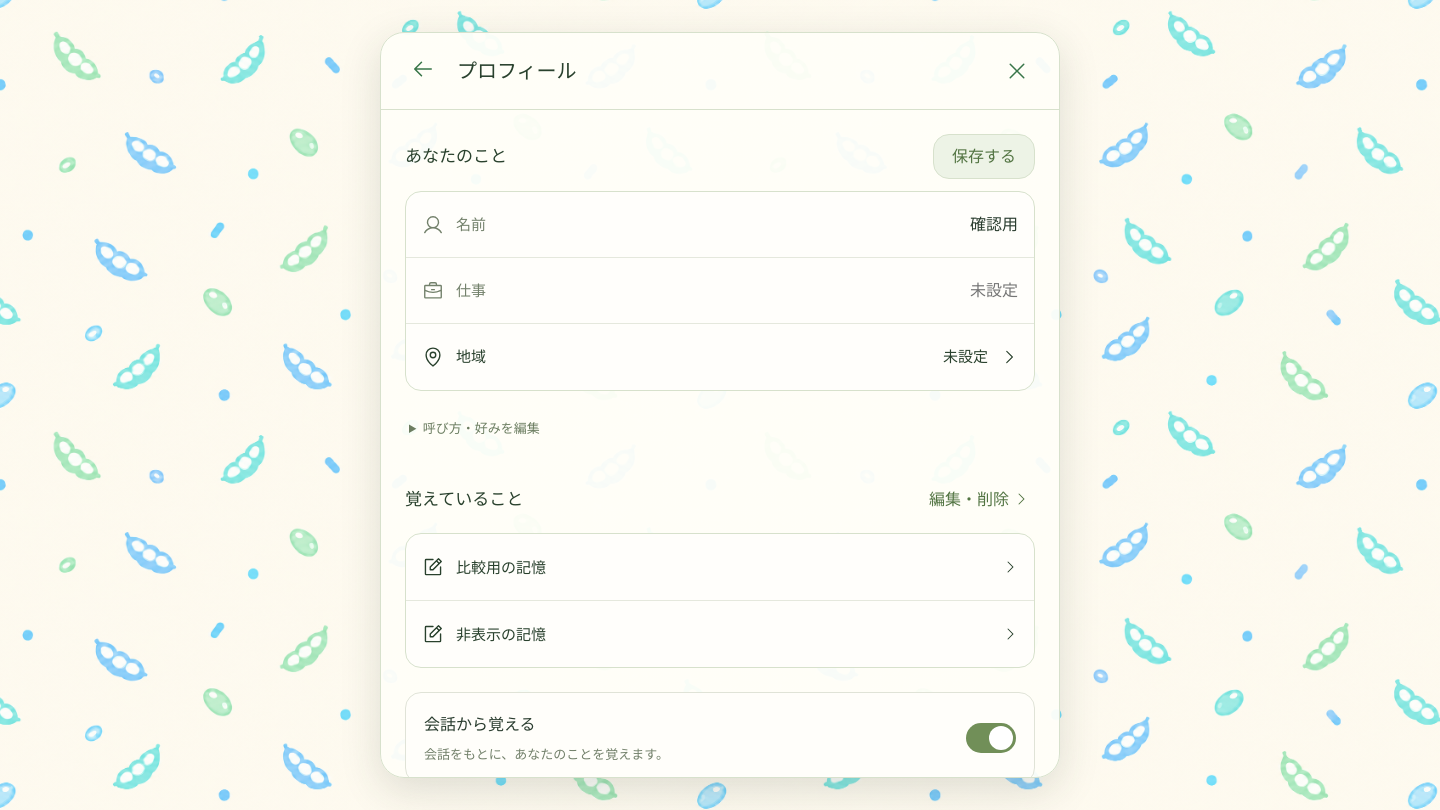
it: reports a partial name save accurately and allows retry with updated revision
Replace the text in the field named "あなたの名前" with "別名". click: coordinates (758, 225)
box: [498,204,1018,246]
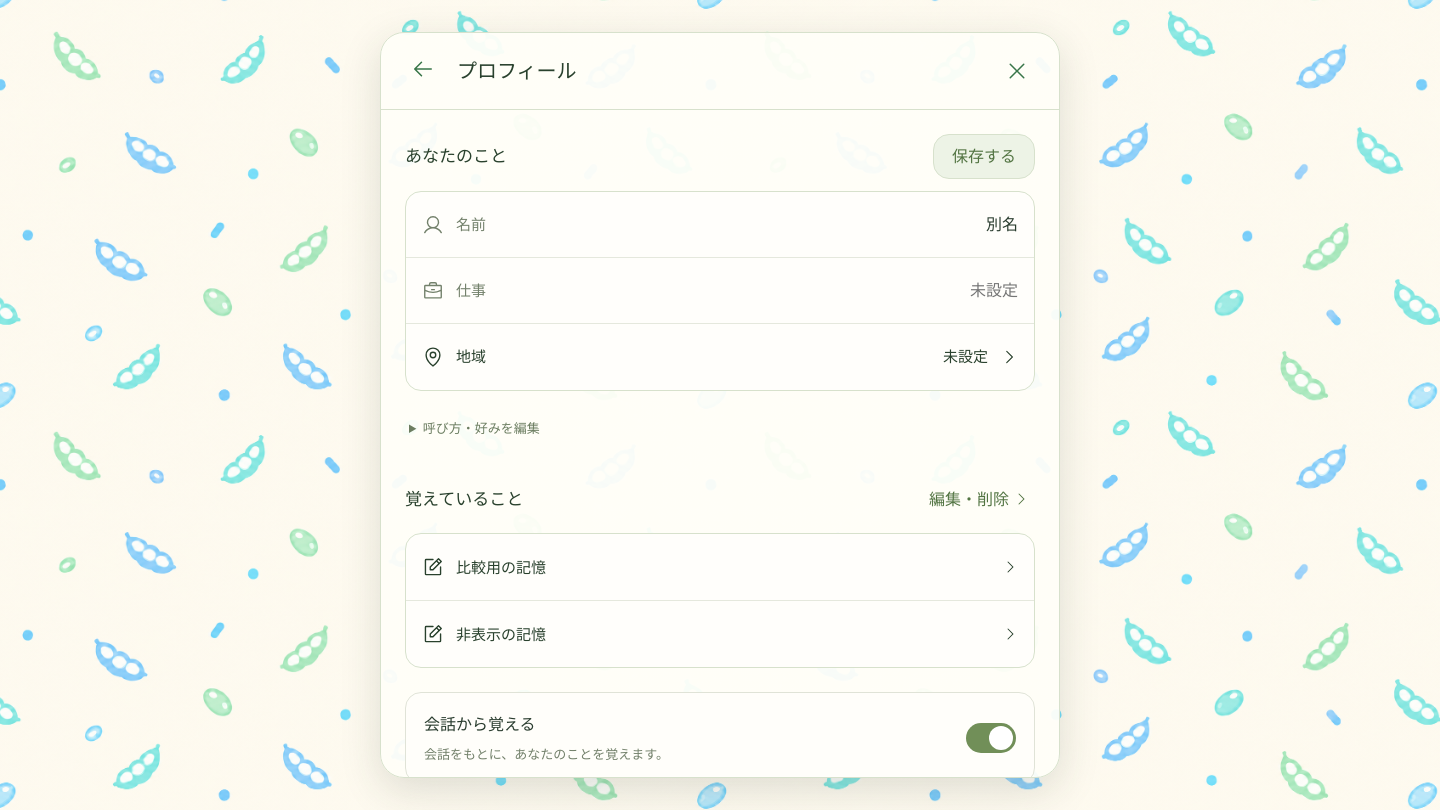
Click the button "保存する". click: coordinates (984, 157)
box: [933,134,1035,179]
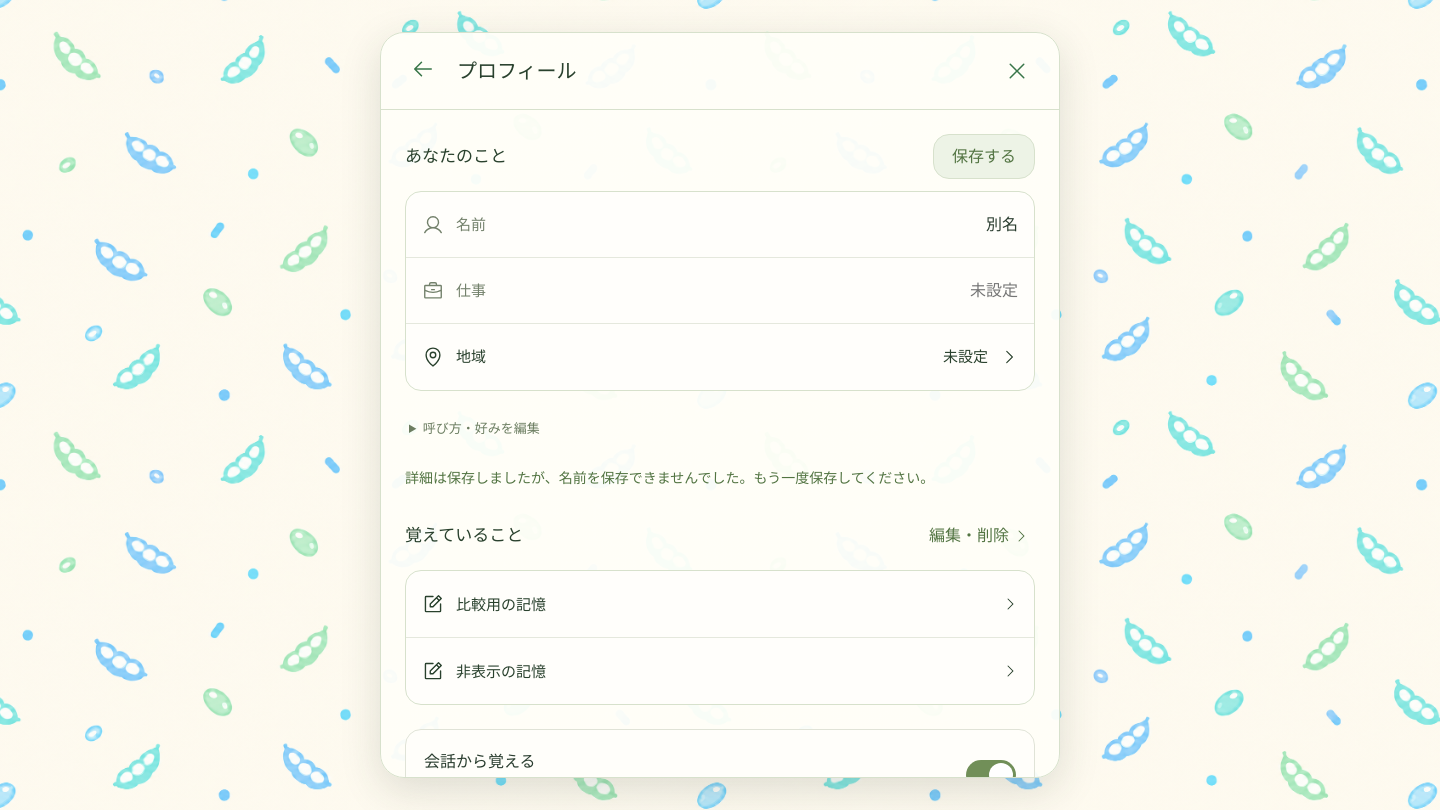
Expected: the text "詳細は保存しましたが、名前を保存できませんでした。もう一度保存してください。" is shown, [405,468,934,487]
Click the button "保存する". click: coordinates (984, 157)
box: [933,134,1035,179]
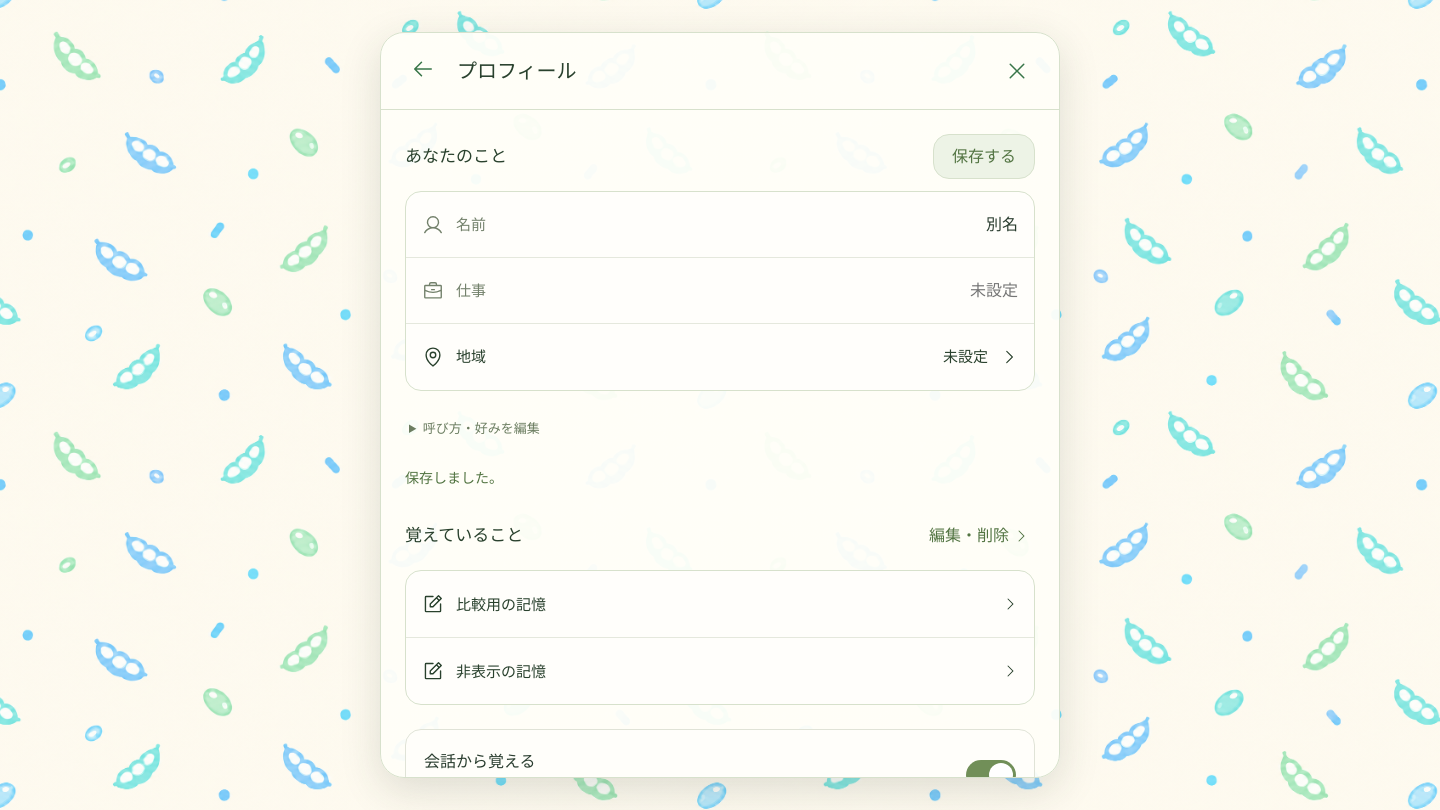
Expected: the text "保存しました。" is shown, [405,468,503,487]
